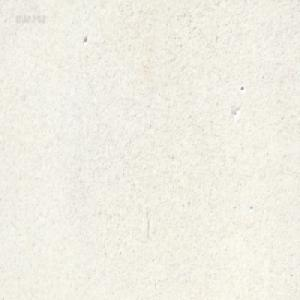Wrench: (154, 0, 160, 4)
